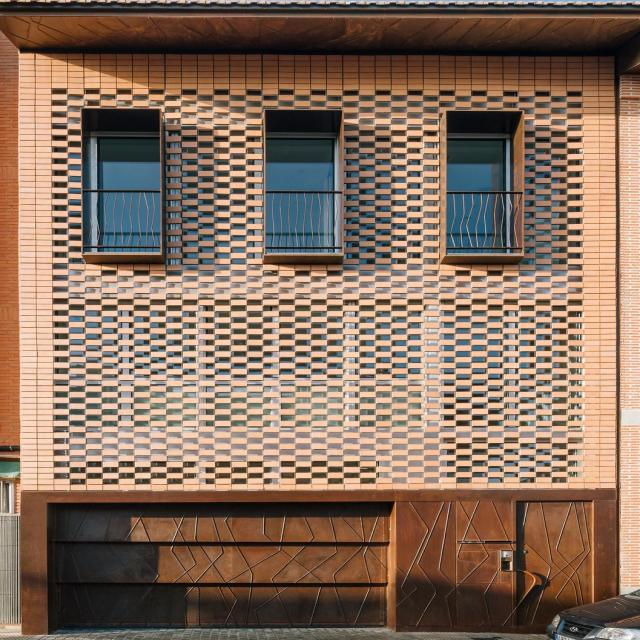Railing: (80, 190, 164, 255), (440, 191, 524, 256), (260, 189, 344, 253)
door: (516, 505, 594, 632)
wall: (0, 0, 639, 637)
windows: (88, 132, 164, 250), (265, 132, 339, 253), (445, 136, 512, 254)
